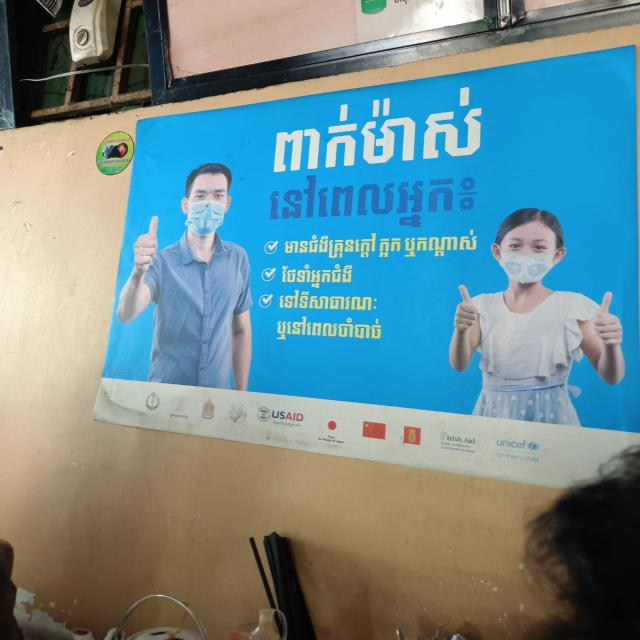2: (282, 228, 480, 259)
Yolov11kh: (264, 78, 486, 174), (262, 165, 482, 229), (273, 312, 384, 348), (276, 287, 378, 314), (278, 261, 358, 289)
